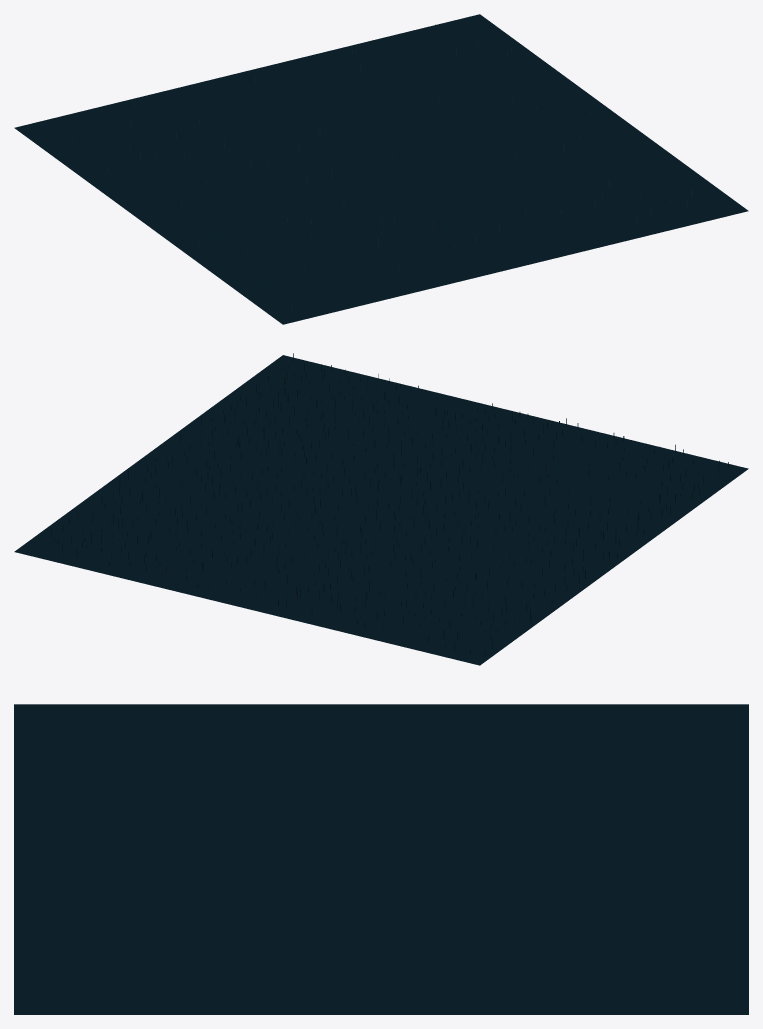
Rendered from floor_v1_16.glb.
The picture shows the model from 3 angles, top to bottom: view 1: azimuth 30°, elevation 25°; view 2: azimuth 150°, elevation 25°; view 3: azimuth 270°, elevation 25°; orthographic projection. The views are drawn at different scales.
Visible parts, largest first — view 1: slab_glass, dust_streaks; view 2: slab_glass, dust_streaks; view 3: slab_glass.
Part boxes in pixels (x1,y1,x2,y2): slab_glass: [14, 14, 748, 324]; dust_streaks: [27, 17, 730, 316]; slab_glass: [14, 355, 748, 665]; dust_streaks: [34, 353, 728, 656]; slab_glass: [14, 704, 748, 1014].
Bounding box in the file's own units: 16 × 0.3594 × 16.
